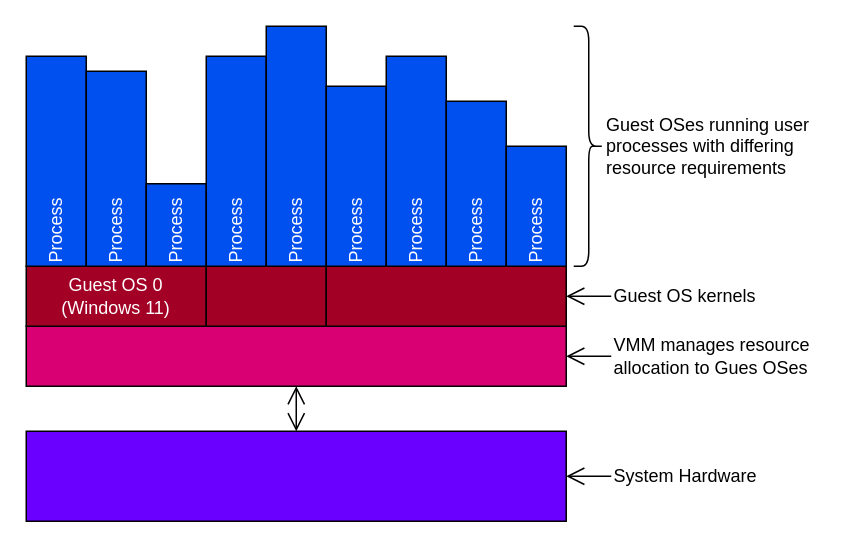
The diagram is 848 pixels wide and 548 high, and some of its shapes have lost their labels. The centre of each missing label's shape, as x and y in pixels:
"Guest OS 1 (Solaris 11.4)" goes at point (265, 295).
"Guest OS 2 (Slackware 14.2)" goes at point (445, 295).
"Hardware" goes at point (295, 475).
"VMM/Hypervisor" goes at point (295, 355).
